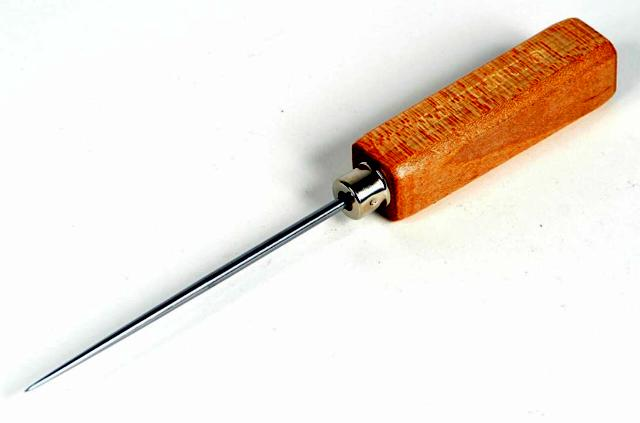ice pick: (25, 17, 618, 393)
